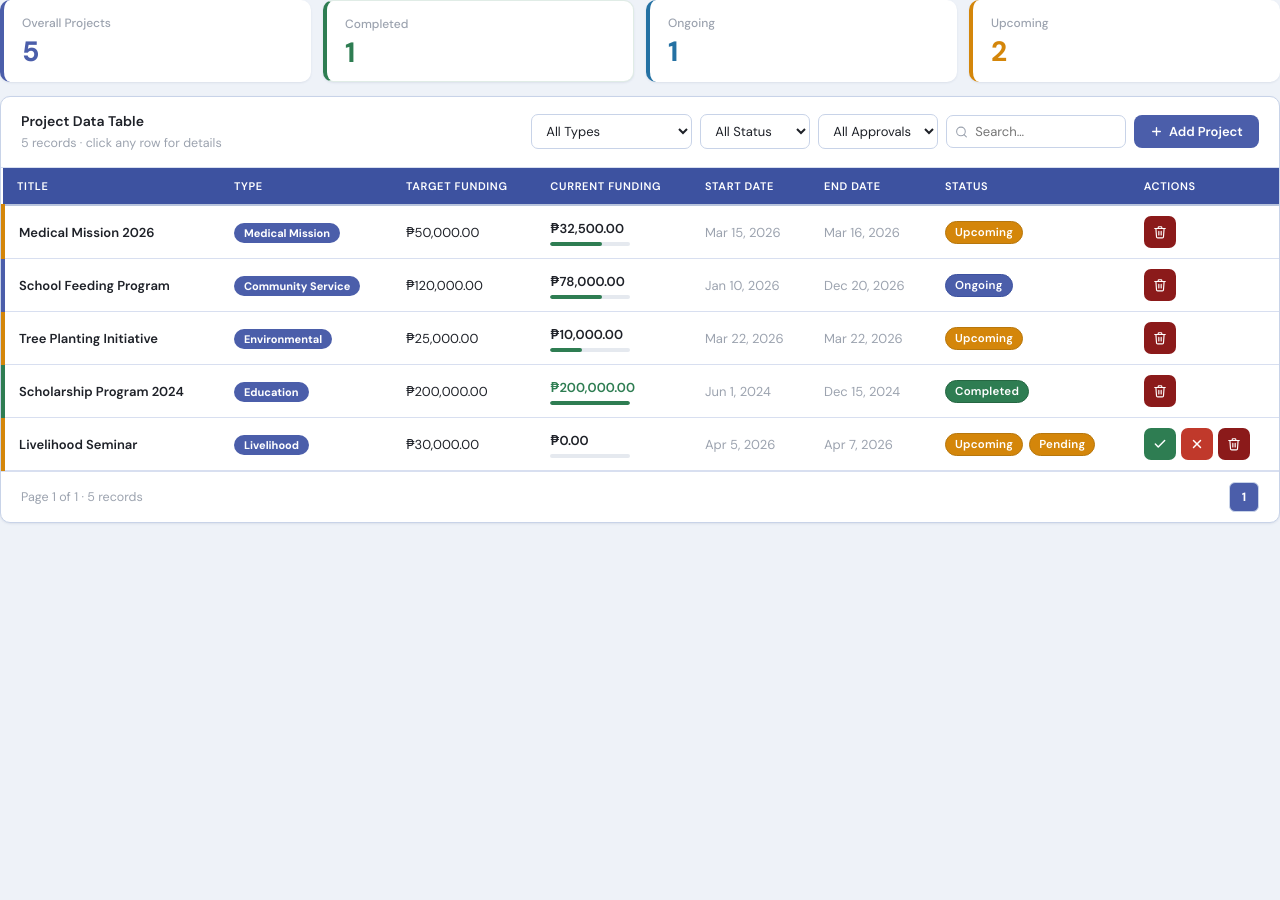
Test: Projects › delete asks first, then removes the row with feedback
Click the button named "Delete" in the row of "Medical Mission 2026".
click(1160, 232)  # box [1144,216,1176,248]
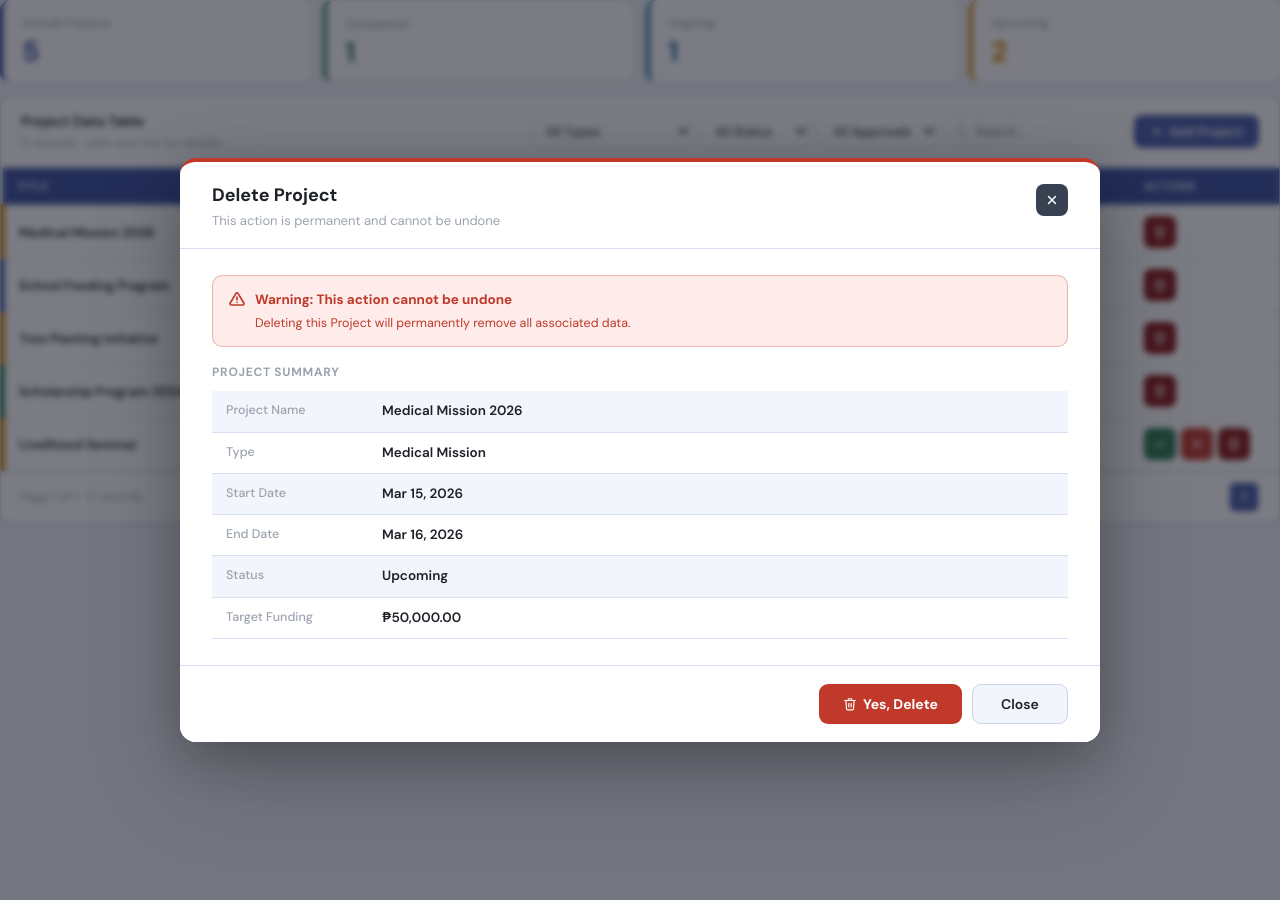
expect the text "Delete Project" is shown: met, box [212,184,337,207]
Click the button "Yes, Delete".
click(891, 704)  # box [819,684,962,724]
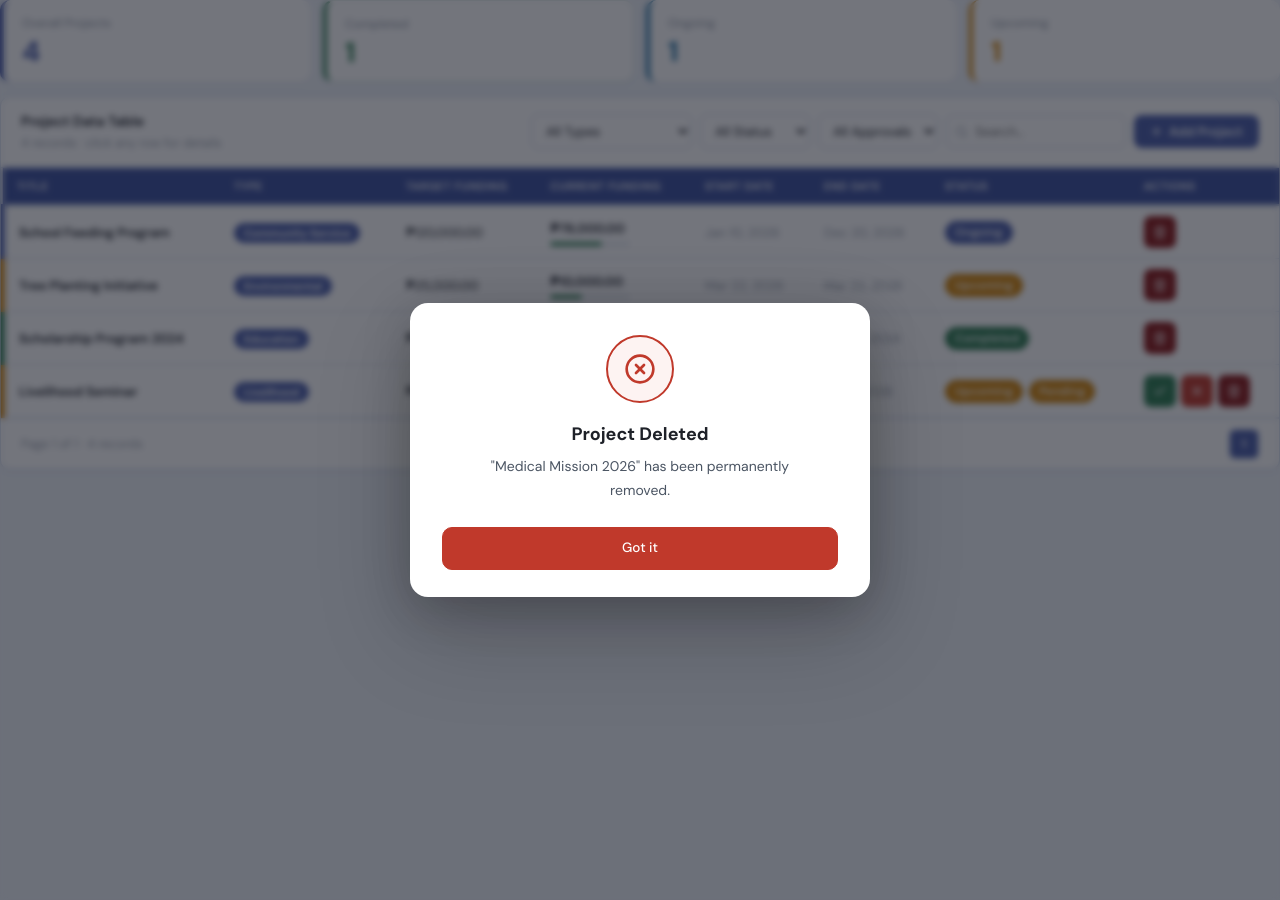
expect the text "\"Medical Mission 2026\" has been permanently removed." is shown: met, box [470,455,810,503]
